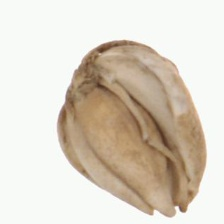L1: (59, 50, 99, 106), (140, 197, 193, 218)
L2: (58, 39, 207, 218)
